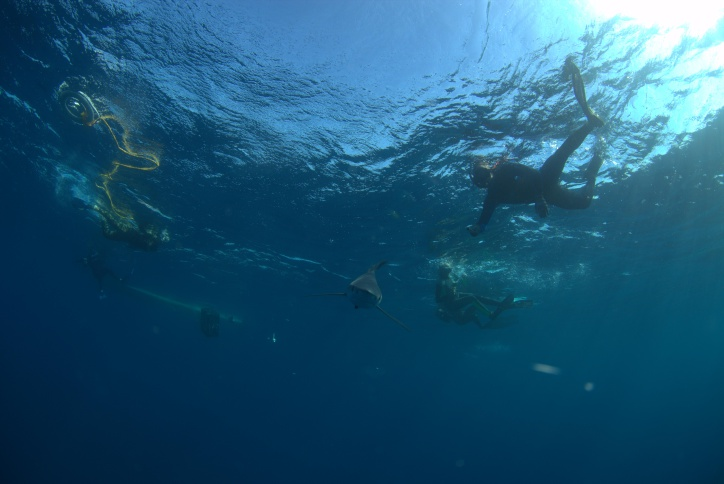Azul: (290, 239, 434, 351)
